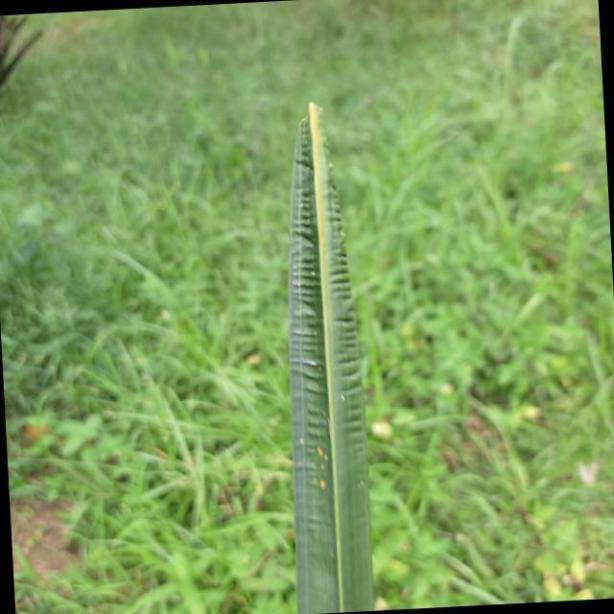Boron: (291, 99, 375, 614)
